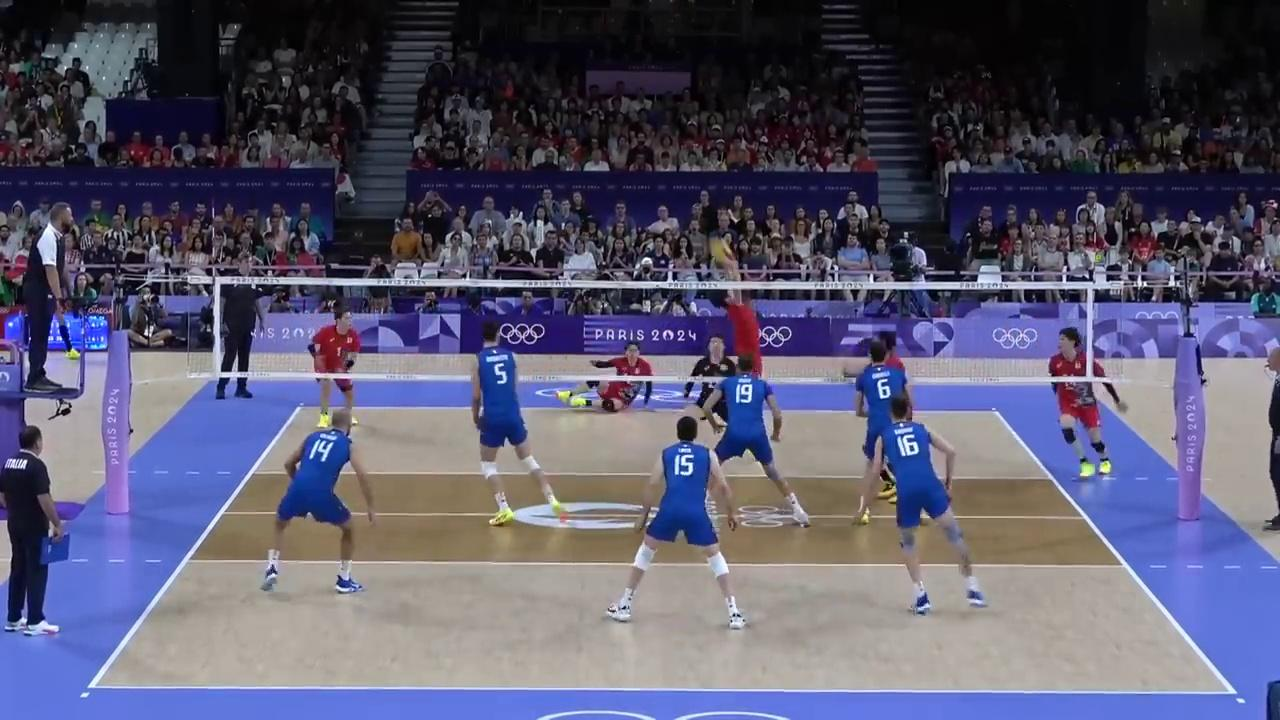ball: (709, 235, 734, 264)
